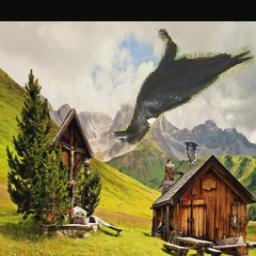Crow: (111, 25, 255, 145), (182, 141, 203, 164)
